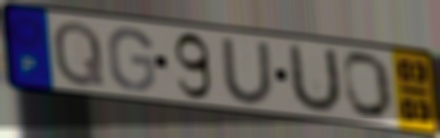9: (172, 31, 214, 101)
G: (105, 26, 158, 94)
O: (340, 49, 396, 121)
Q: (51, 18, 108, 89)
U: (217, 36, 278, 108), (288, 40, 345, 115)
